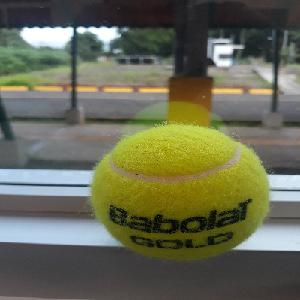Ball: (90, 123, 270, 262)
